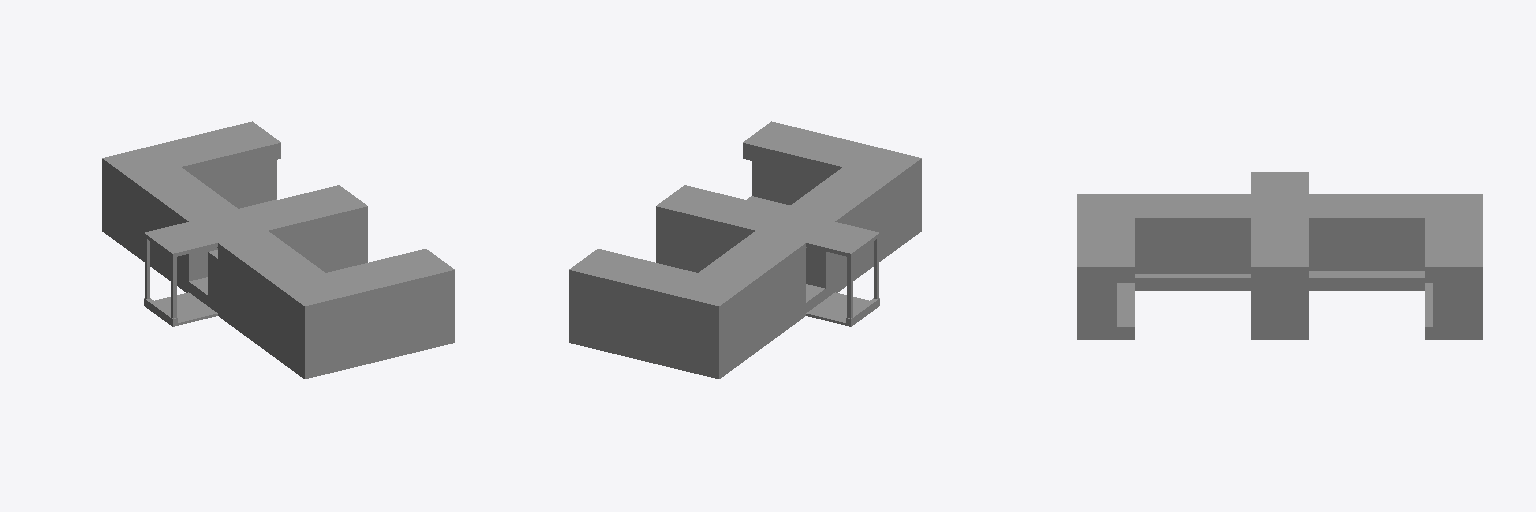
File: minimalEBuilding.obj
3 views of the same model, side by side, from view 1: azimuth 30°, elevation 25°; view 2: azimuth 150°, elevation 25°; view 3: azimuth 270°, elevation 25° (orthographic).
Parts seen in each view (by area): view 1: Cube.003; view 2: Cube.003; view 3: Cube.003.
Part boxes in pixels (bbox=[...]): Cube.003: bbox=[102, 121, 454, 378]; Cube.003: bbox=[569, 121, 921, 378]; Cube.003: bbox=[1077, 172, 1482, 339].
Bounding box in the file's own units: 3.9 × 1.39 × 7.